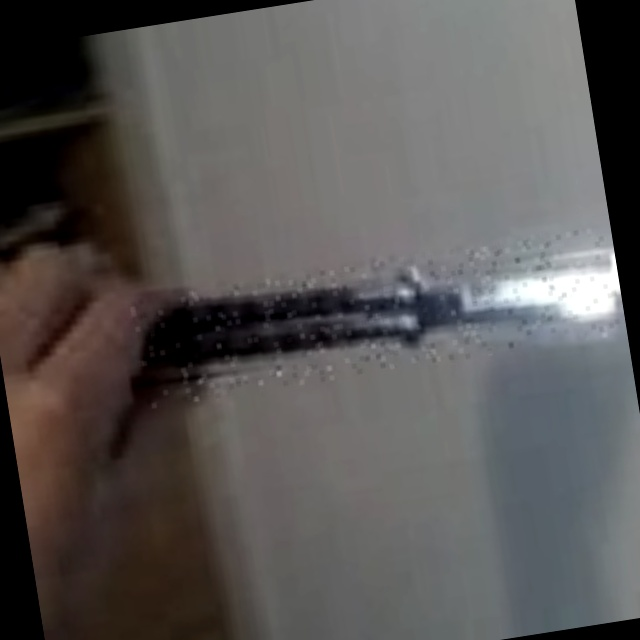Sharp-Object: (131, 227, 621, 408)
